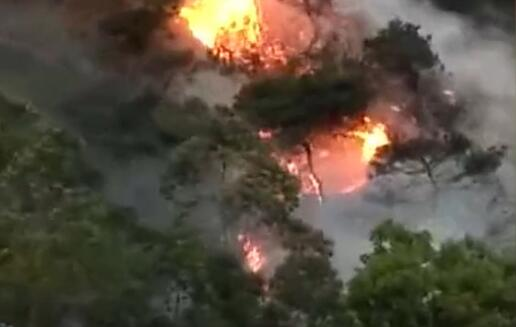fire: (244, 113, 397, 197), (178, 1, 306, 72), (231, 226, 270, 280)
